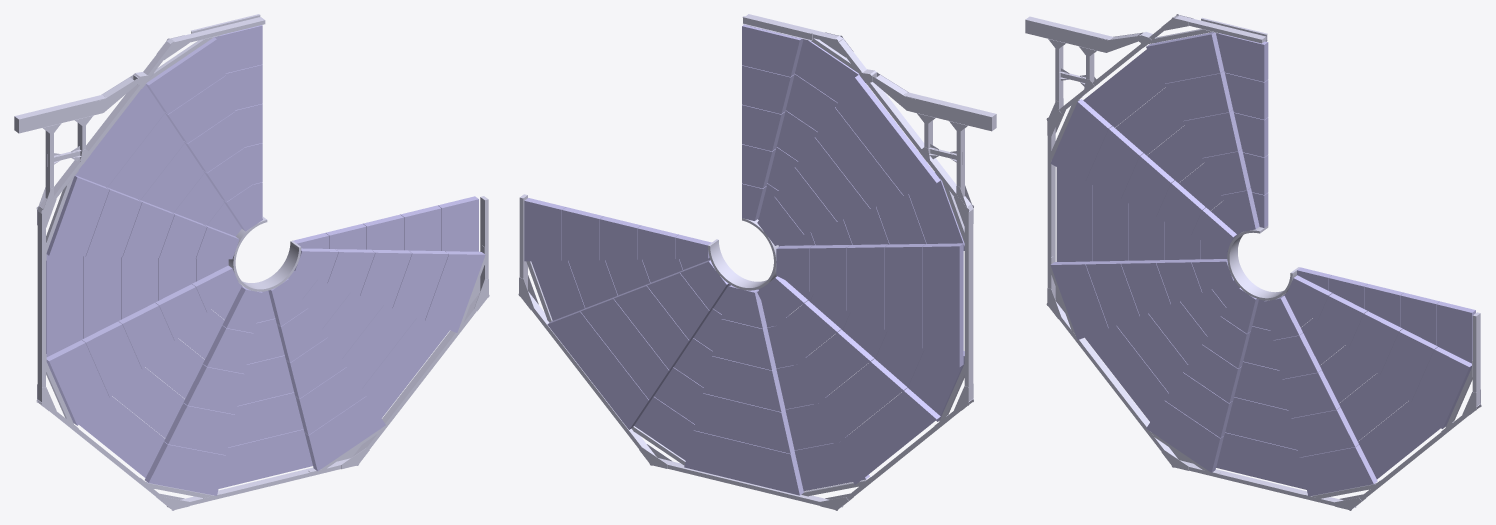
The model's file is Muon-Big-Wheel-MDT-SideC-cut3.glb.
3 renders of one model, left to right at view 1: azimuth 30°, elevation 25°; view 2: azimuth 150°, elevation 25°; view 3: azimuth 330°, elevation 25°, orthographic. The views are drawn at different scales.
Parts seen in each view (by area): view 1: S__2FBDB868, S__2D0B1468; view 2: S__2FBDB868, S__2D0B1468; view 3: S__2FBDB868, S__2D0B1468.
Part boxes in pixels (left/top/right/bottom): S__2FBDB868: left=46, top=25, right=485, bottom=495; S__2D0B1468: left=14, top=14, right=489, bottom=510; S__2FBDB868: left=524, top=24, right=964, bottom=495; S__2D0B1468: left=518, top=14, right=996, bottom=510; S__2FBDB868: left=1050, top=32, right=1475, bottom=496; S__2D0B1468: left=1025, top=14, right=1481, bottom=510.
Bounding box in the file's own units: 24.55 × 23.42 × 0.78.
